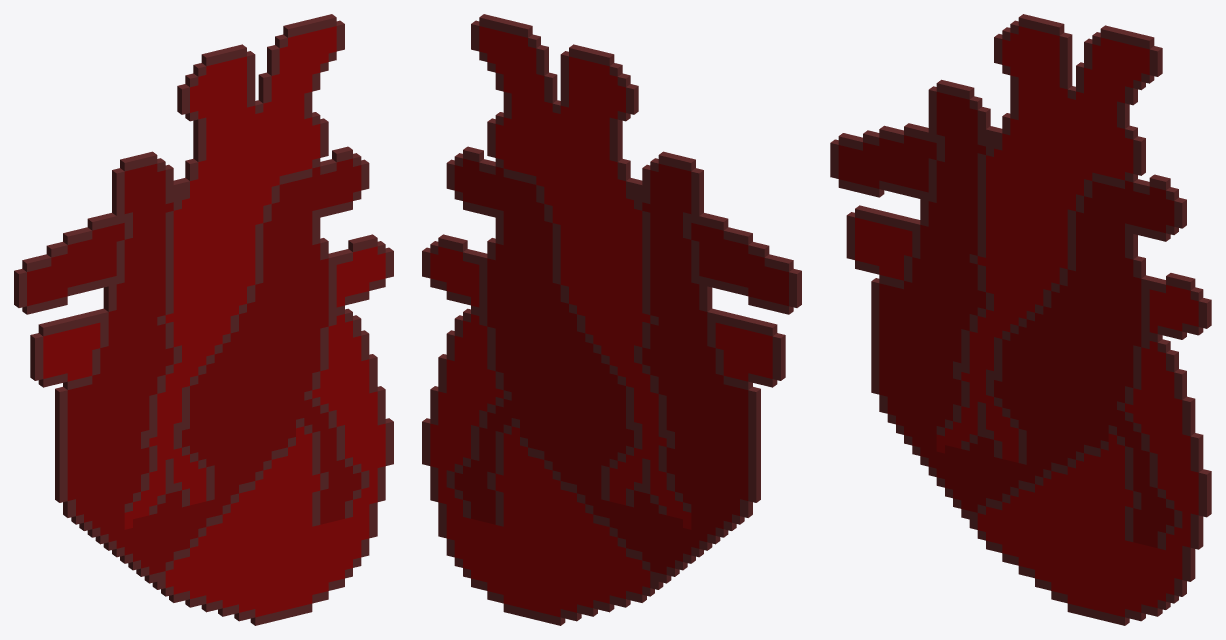
The model's file is coração real.obj.
The picture shows the model from 3 angles, left to right: view 1: azimuth 30°, elevation 25°; view 2: azimuth 150°, elevation 25°; view 3: azimuth 330°, elevation 25°; orthographic projection.
Size of the model in its own units: 4.6 by 6.9 by 0.1.
1 material, 1 textured.
